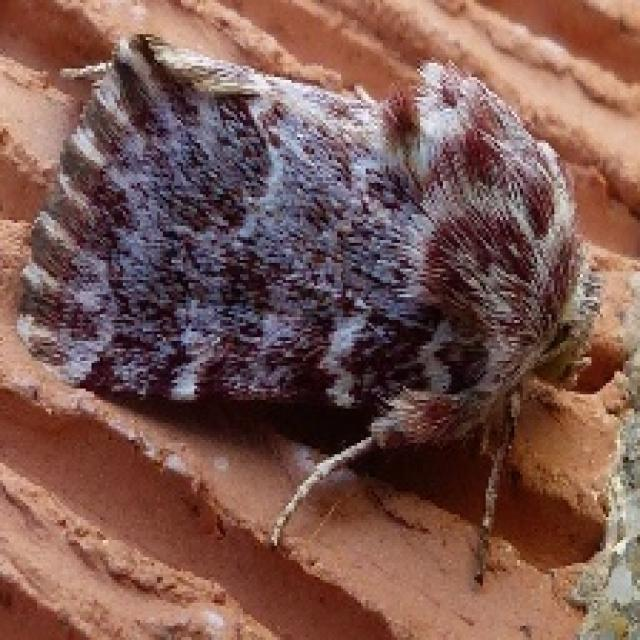butterfly: (14, 28, 603, 583)
